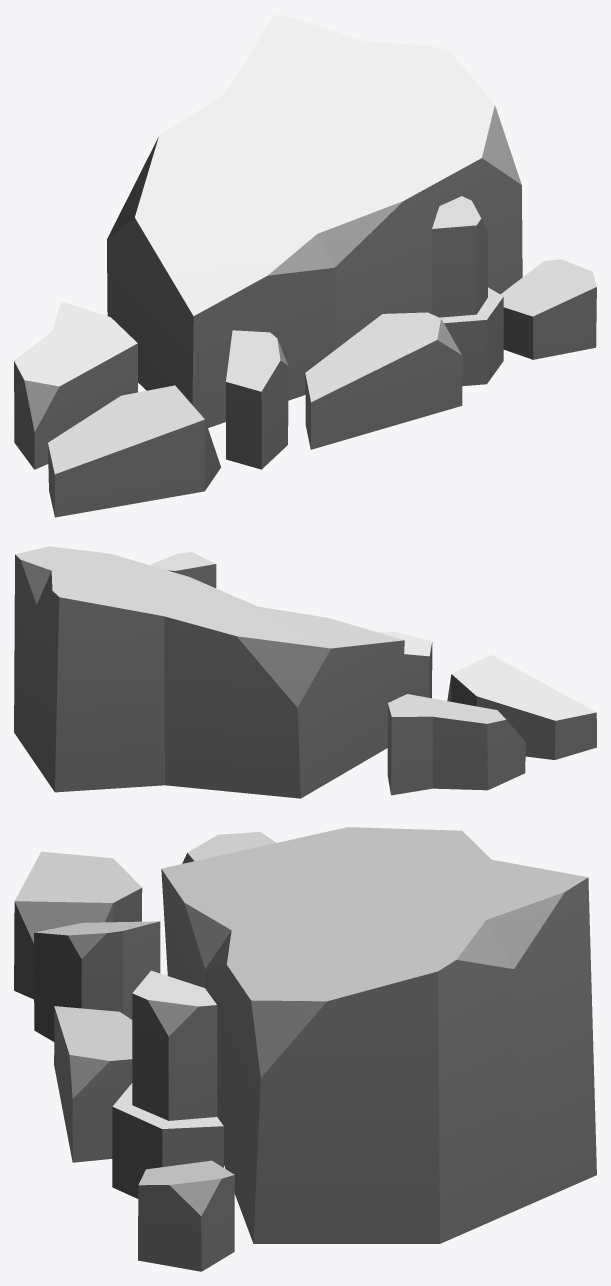
Rendered from stones group winter.fbx.
The picture shows the model from 3 angles, top to bottom: view 1: azimuth 30°, elevation 25°; view 2: azimuth 150°, elevation 25°; view 3: azimuth 270°, elevation 25°; orthographic projection. The views are drawn at different scales.
Parts seen in each view (by area): view 1: stones group winter; view 2: stones group winter; view 3: stones group winter.
Boxes of the visible parts, x1,y1,x2,y2 form: stones group winter: (14,14,596,517); stones group winter: (14,546,596,798); stones group winter: (14,827,596,1271).
Size of the model in its own units: 863 by 326 by 580.
